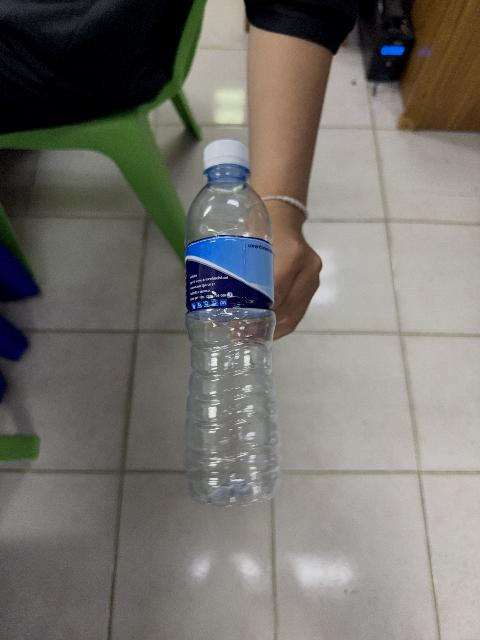bottle: (185, 140, 279, 505)
